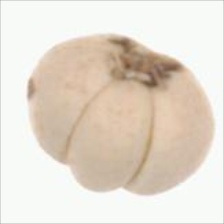L5: (63, 75, 155, 194), (101, 32, 187, 93)
L6: (25, 30, 215, 198)
